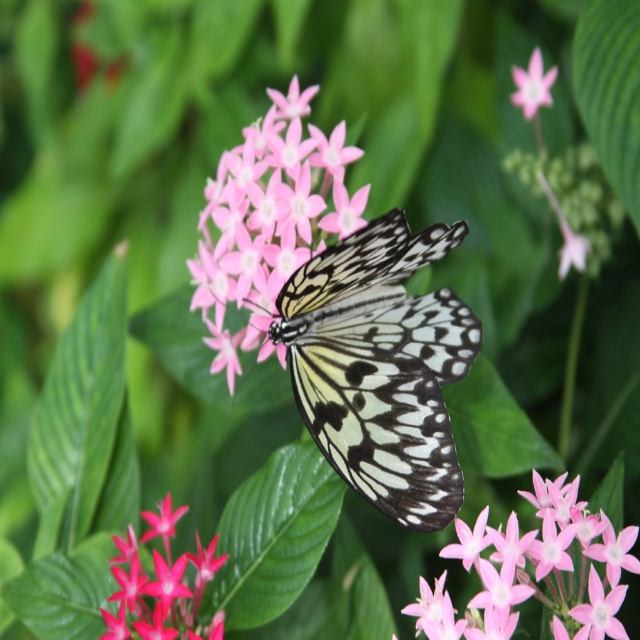Butterfly: (208, 207, 484, 527)
